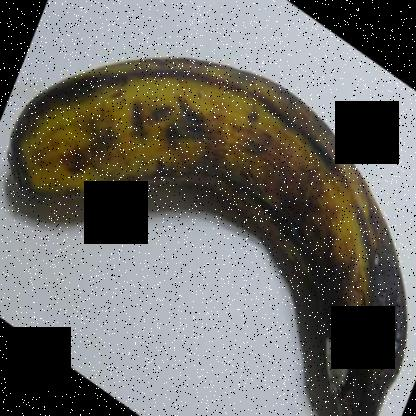overripe: (1, 42, 415, 415)
rotten: (290, 266, 405, 414)
